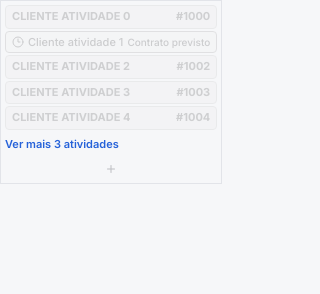
Test case: atividades da célula real da agenda › mantém a ordem e o limite ao destacar uma tag de atividade inicialmente recolhida
Check: the text "Urgente" is not shown
Click the button "Ver mais 3 atividades" at coordinates (111, 144), box [5, 132, 217, 156]
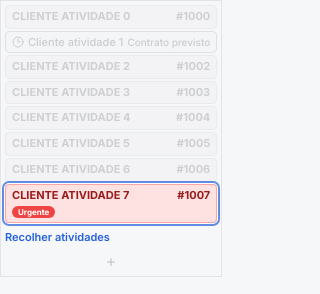
Check: the text "Urgente" is shown, box [12, 206, 55, 218]
